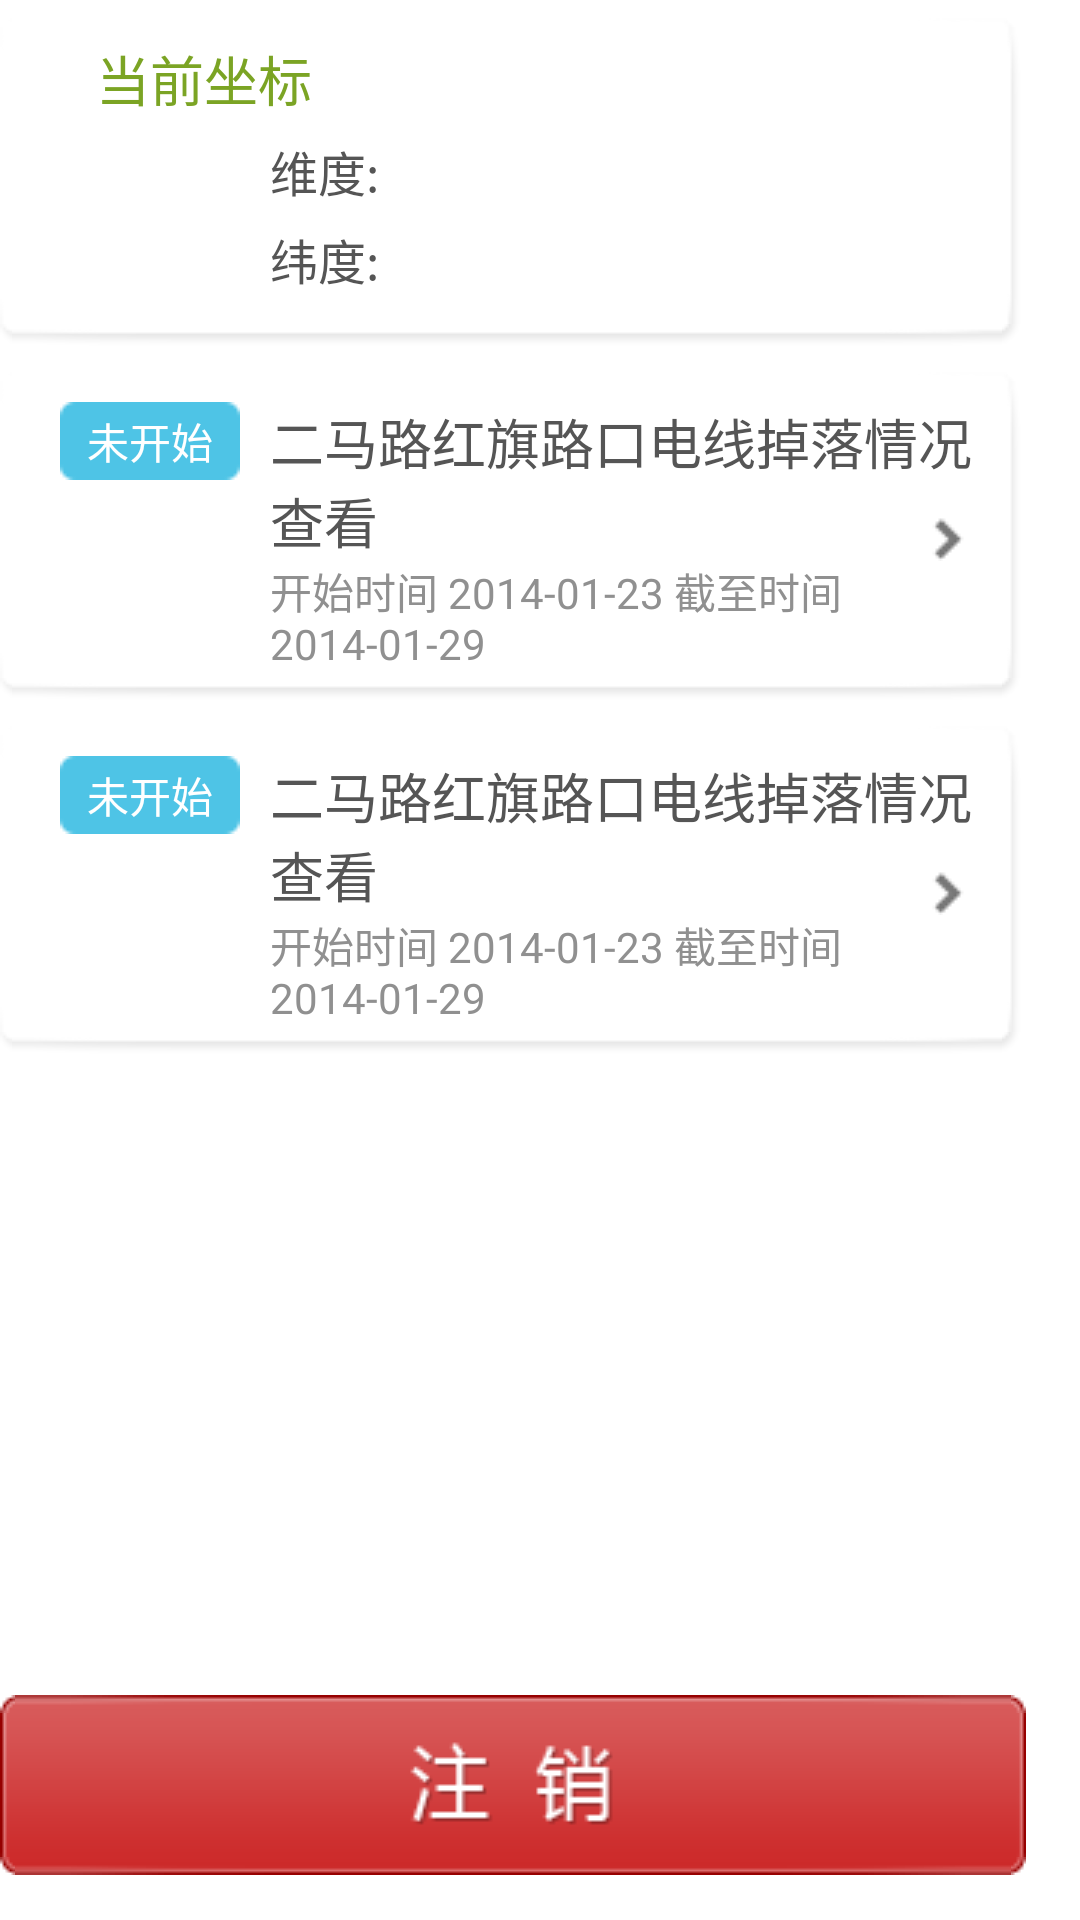

Icons on this 1080px×1920px Android screen, each with its box as bbox(x1, y1, x2, y2):
arrow right: bbox(935, 519, 961, 559), bbox(935, 873, 961, 913)
